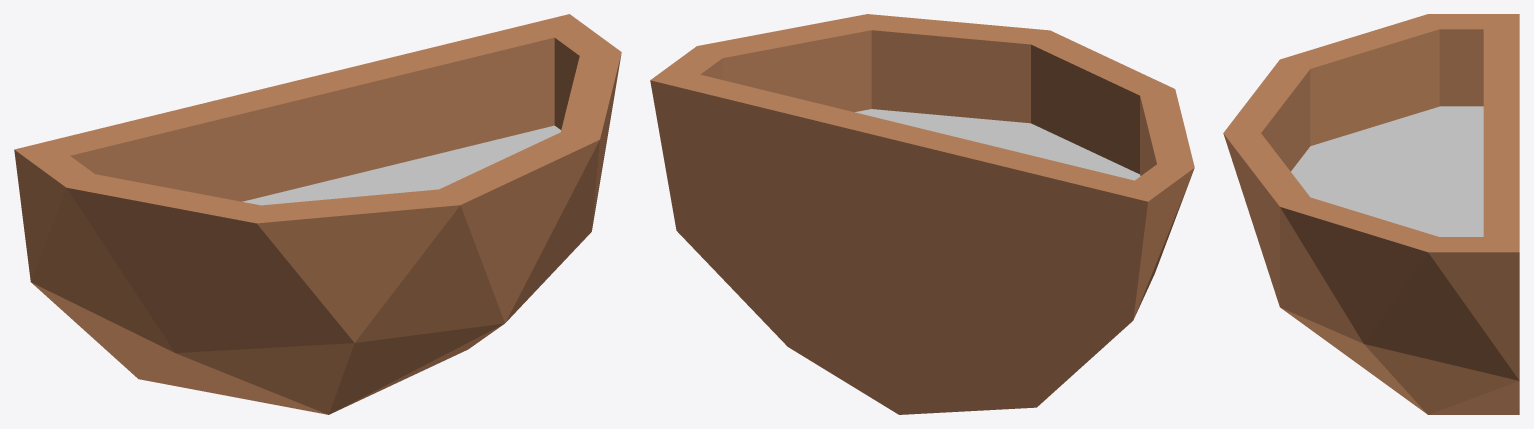
File: Wall Light.glb
3 renders of one model, left to right at view 1: azimuth 30°, elevation 25°; view 2: azimuth 150°, elevation 25°; view 3: azimuth 270°, elevation 25°, orthographic. The views are drawn at different scales.
Parts seen in each view (by area): view 1: Wall Light; view 2: Wall Light; view 3: Wall Light.
Boxes of the visible parts, x1,y1,x2,y2 form: Wall Light: (14, 14, 621, 414); Wall Light: (650, 14, 1194, 414); Wall Light: (1223, 14, 1519, 414).
Bounding box in the file's own units: 0.3804 × 0.2 × 0.2.
